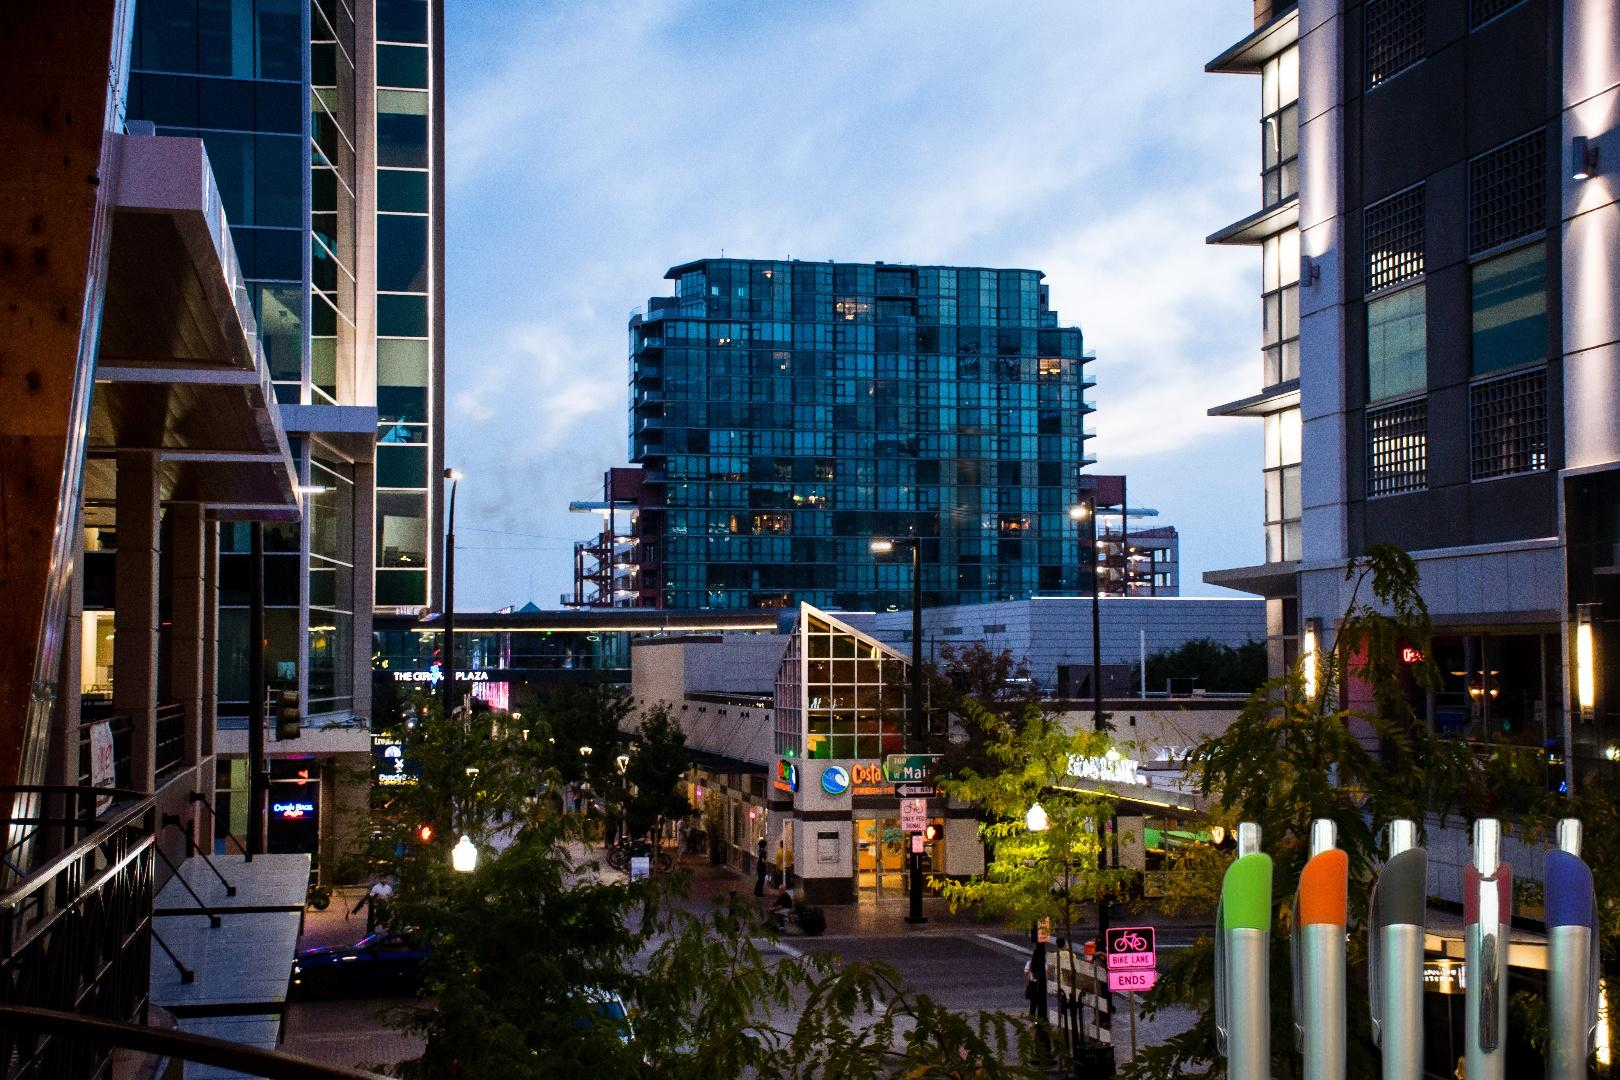penholder: (417, 391, 1057, 832), (1203, 812, 1620, 1080)
